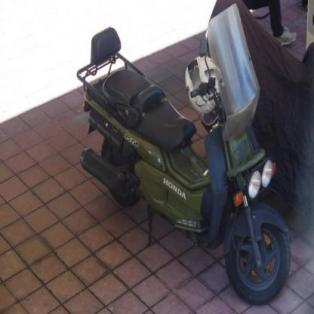Motocicleta: (79, 0, 290, 304)
